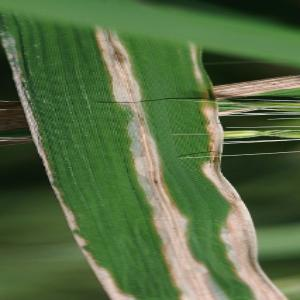2 BacterialBlight: (59, 41, 220, 300)
